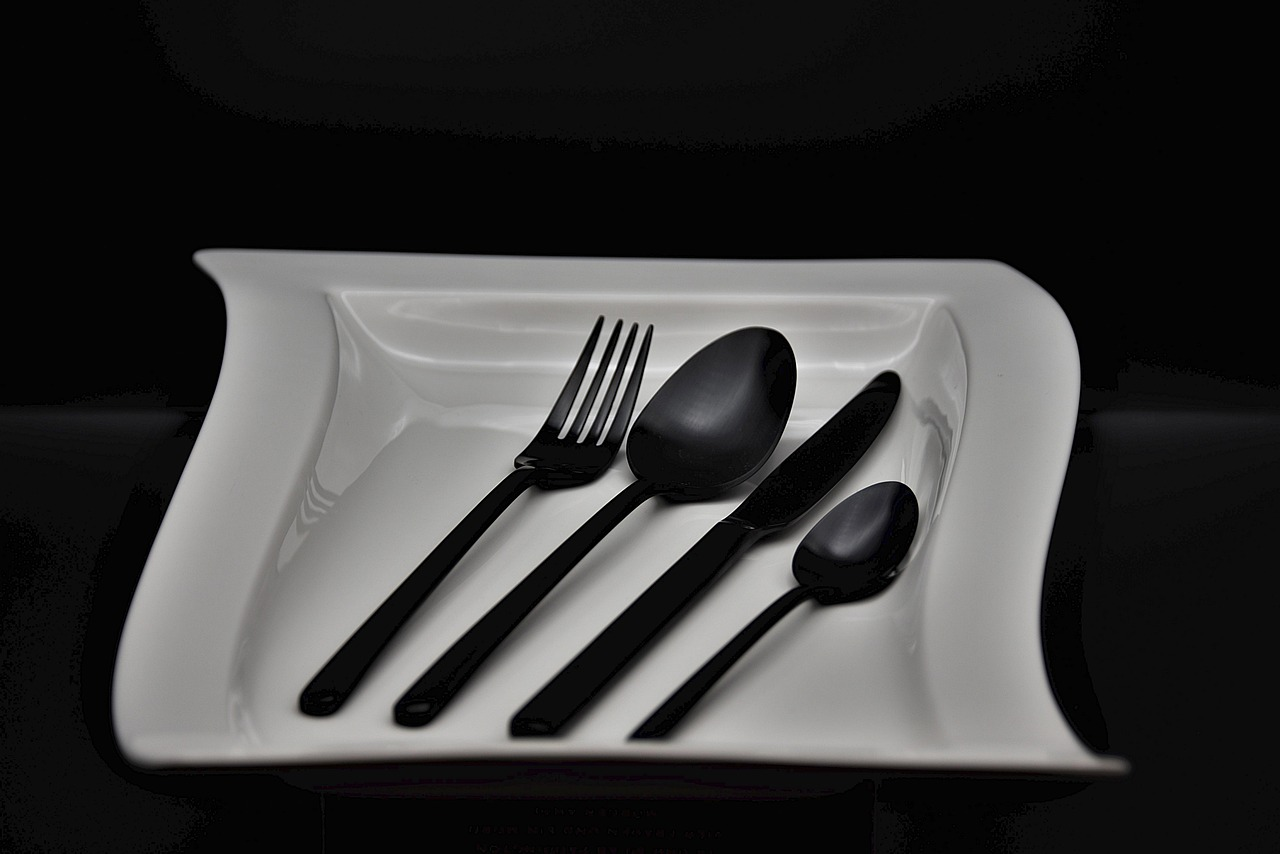knife: (505, 366, 911, 745)
